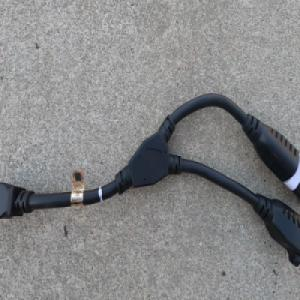Wire: (0, 91, 300, 267)
